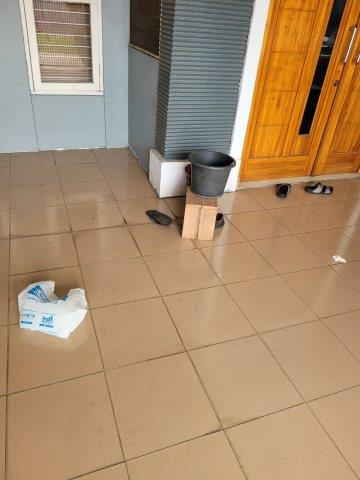plastik: (17, 280, 88, 337)
